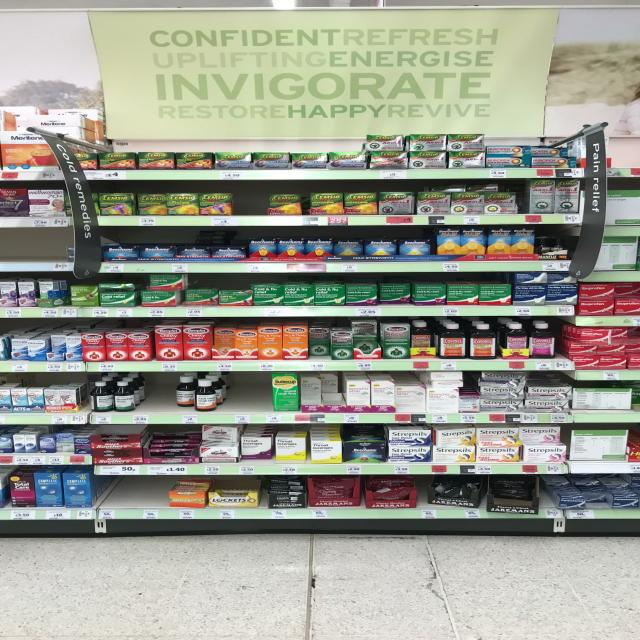void: (97, 476, 159, 524), (226, 373, 267, 427), (34, 229, 70, 279), (137, 372, 169, 423), (0, 229, 30, 279), (234, 189, 263, 225)
